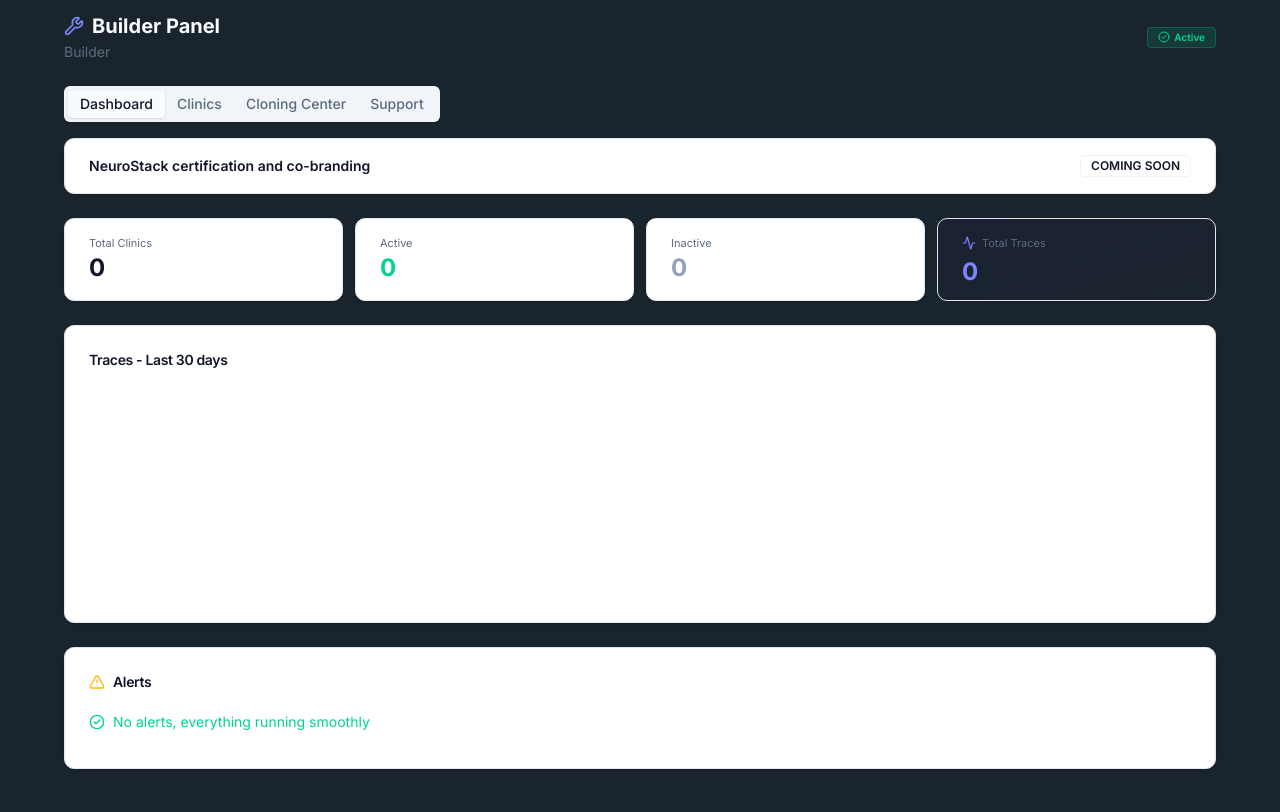
Test case: Builder Sub-Accounts clinic search › keeps search absent and shows the existing empty state when there are no clinics
This screenshot has width=1280, height=812.
Press the mouse on the tab "Clinics" at (199, 104), box left=165, top=90, right=234, bottom=118
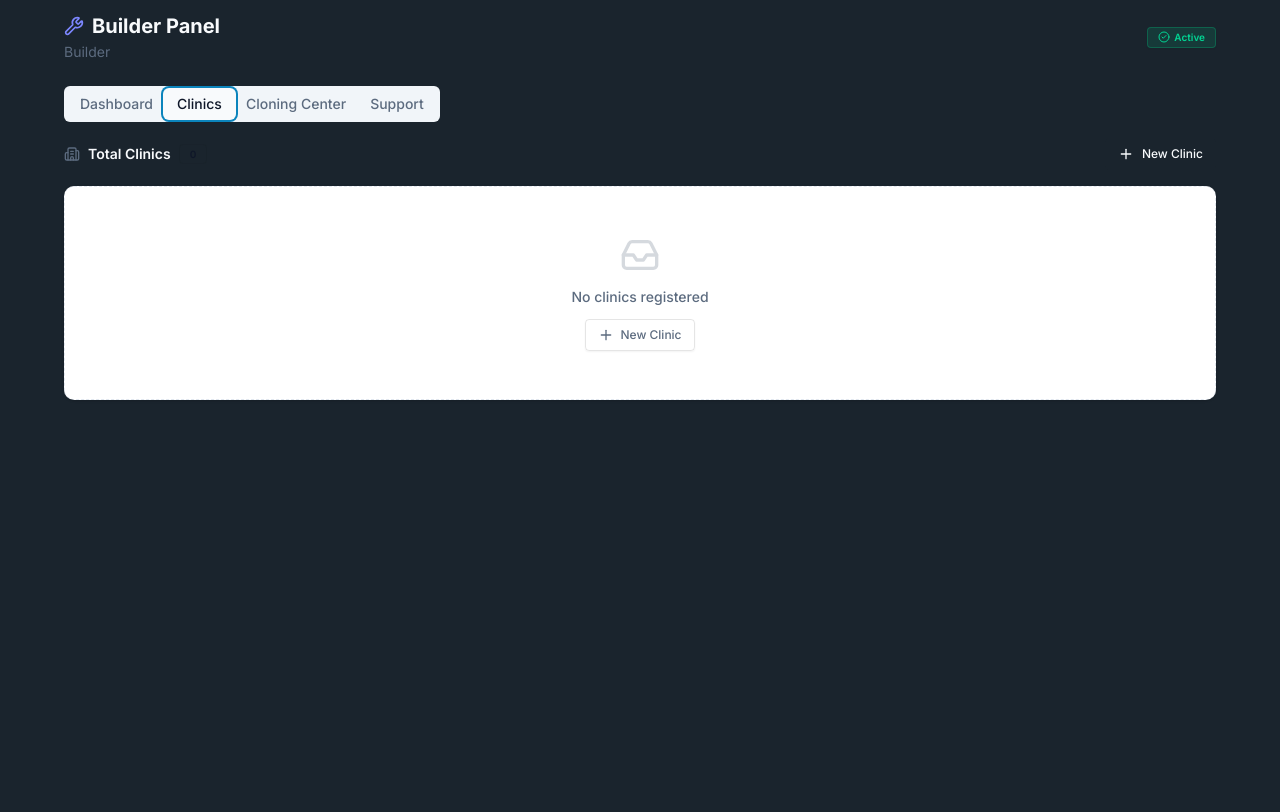
Expected: the text "No clinics registered" is shown, left=571, top=287, right=709, bottom=307
Expected: the number of buttons "New Clinic" is 2, left=1105, top=138, right=1216, bottom=170; left=586, top=319, right=695, bottom=351
